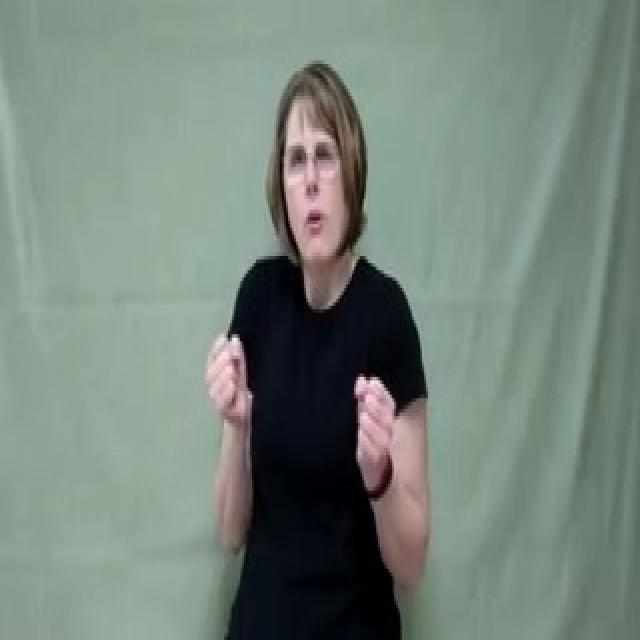cold: (173, 326, 419, 508)
